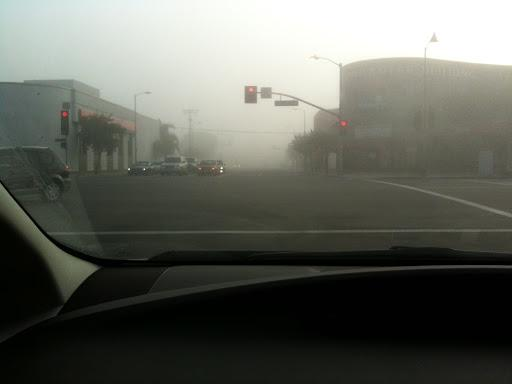car: (1, 144, 71, 203), (159, 156, 190, 177), (128, 160, 154, 176), (196, 159, 218, 176), (179, 156, 198, 175), (205, 158, 226, 175), (149, 159, 167, 175)
